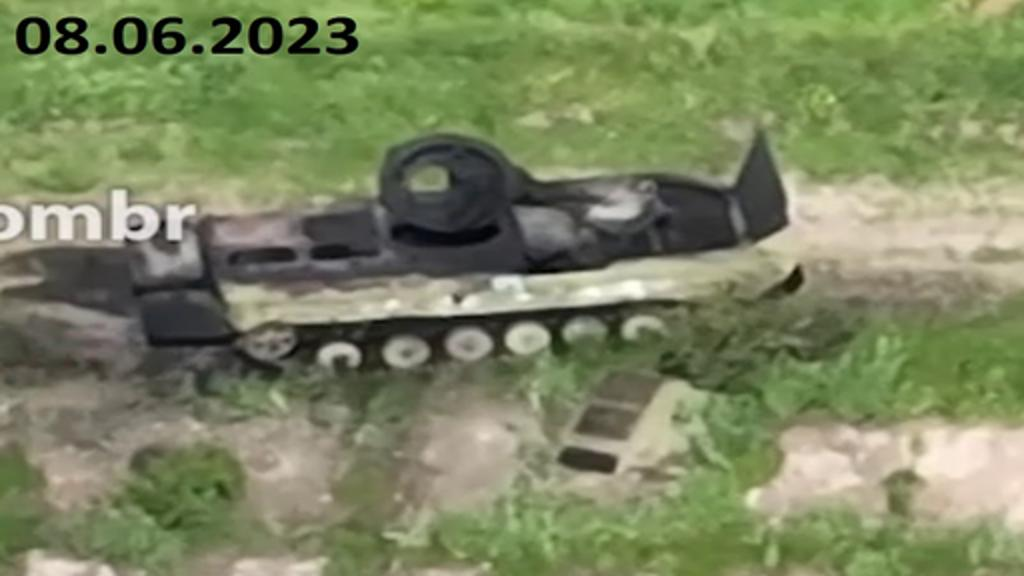APC-IFV: (126, 154, 808, 344)
